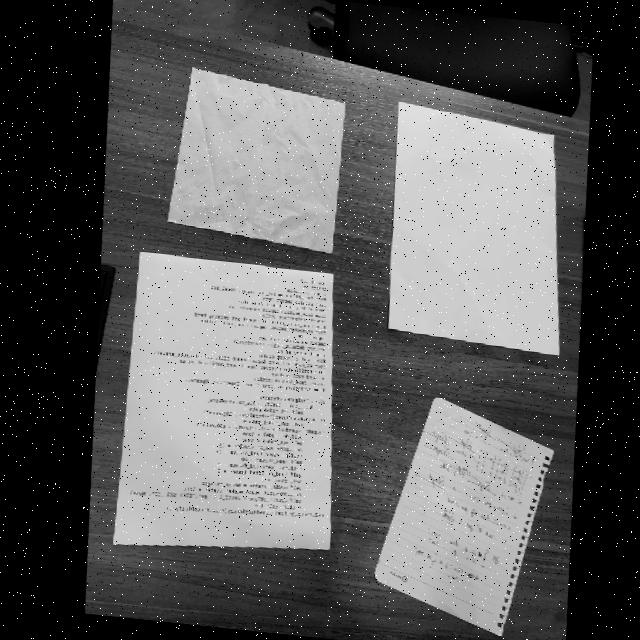document: (113, 252, 332, 549), (374, 397, 553, 636)
